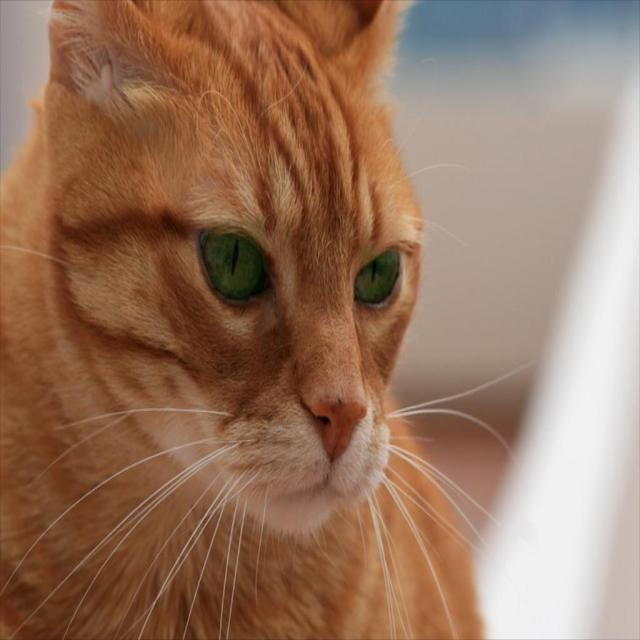Cat: (0, 0, 536, 638)
